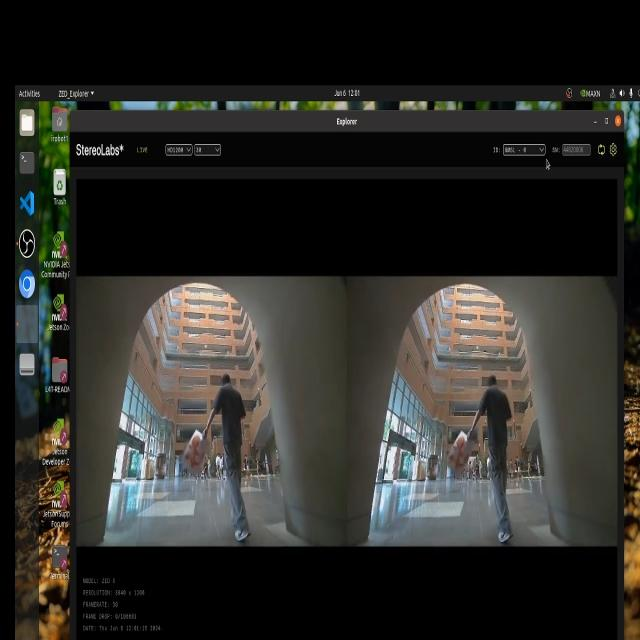red: (184, 438, 207, 472)
